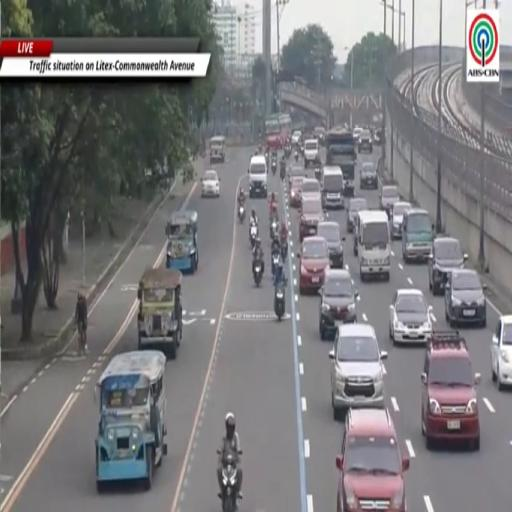bus: (325, 127, 356, 196), (265, 115, 291, 149), (265, 115, 281, 150), (279, 114, 291, 145)
car: (336, 409, 410, 511), (421, 330, 480, 451), (330, 324, 387, 420), (319, 268, 358, 340), (445, 269, 486, 327), (428, 236, 468, 295), (390, 288, 432, 344), (298, 236, 329, 294), (492, 315, 511, 390), (317, 221, 344, 268), (299, 197, 324, 242), (391, 202, 411, 239), (347, 198, 368, 232), (380, 186, 401, 217), (201, 170, 220, 197), (360, 163, 378, 189), (289, 176, 304, 207), (304, 139, 320, 168), (301, 179, 321, 200), (288, 164, 306, 184), (358, 130, 372, 153), (313, 126, 325, 145), (353, 126, 362, 143), (292, 131, 302, 145)
jeepney: (95, 351, 167, 492), (138, 267, 182, 359), (166, 211, 198, 274), (210, 136, 225, 164)
motorcycle: (220, 451, 242, 511), (274, 282, 285, 321), (253, 260, 263, 286), (271, 250, 279, 276), (250, 224, 258, 248), (270, 219, 278, 239), (238, 204, 245, 222), (284, 145, 292, 159), (281, 243, 287, 261), (280, 166, 286, 182), (271, 160, 276, 175), (315, 167, 320, 181), (294, 151, 300, 162)
